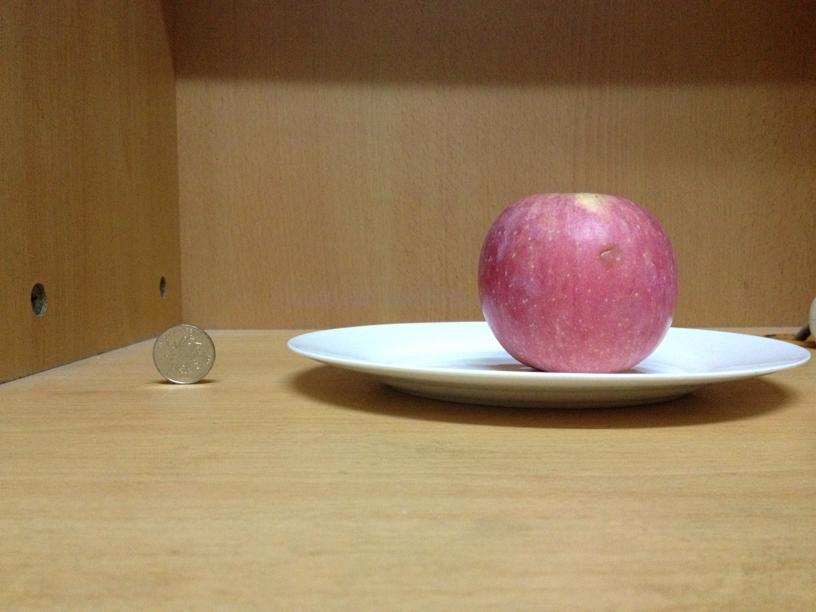apple: (472, 192, 672, 370)
coin: (151, 323, 217, 383)
